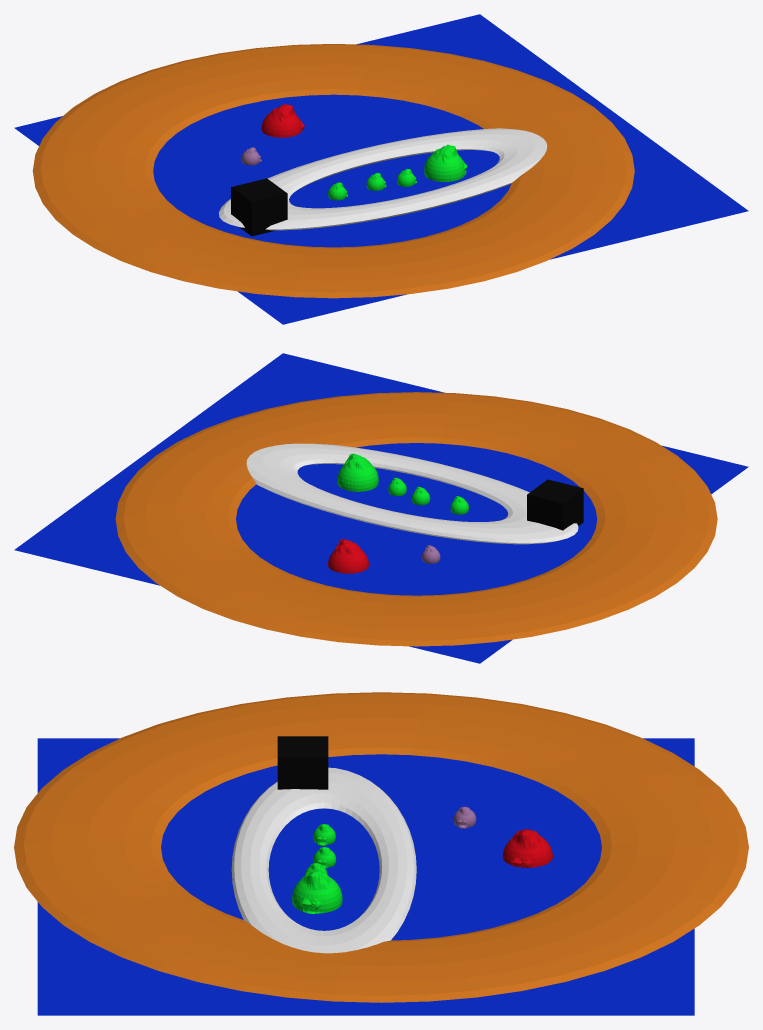
Rendered from child_Duck.fbx.
The picture shows the model from 3 angles, top to bottom: view 1: azimuth 30°, elevation 25°; view 2: azimuth 150°, elevation 25°; view 3: azimuth 270°, elevation 25°; orthographic projection. The views are drawn at different scales.
Visible parts, largest first — view 1: Torus, Plane, Torus.001, Cube, Sphere.001, Sphere; view 2: Torus, Plane, Torus.001, Cube, Sphere.001, Sphere; view 3: Torus, Plane, Torus.001, Cube, Sphere.001, Sphere.
Boxes of the visible parts, left/top/right/bottom form: Torus: left=32, top=44, right=634, bottom=298; Plane: left=14, top=14, right=748, bottom=324; Torus.001: left=219, top=128, right=547, bottom=230; Cube: left=231, top=178, right=287, bottom=236; Sphere.001: left=424, top=144, right=467, bottom=181; Sphere: left=261, top=104, right=304, bottom=137; Torus: left=115, top=392, right=717, bottom=646; Plane: left=14, top=353, right=748, bottom=663; Torus.001: left=246, top=443, right=578, bottom=544; Cube: left=527, top=479, right=583, bottom=530; Sphere.001: left=337, top=453, right=378, bottom=491; Sphere: left=328, top=539, right=368, bottom=573; Torus: left=14, top=692, right=748, bottom=1002; Plane: left=37, top=738, right=694, bottom=1015; Torus.001: left=231, top=767, right=416, bottom=953; Cube: left=277, top=736, right=328, bottom=789; Sphere.001: left=292, top=870, right=342, bottom=913; Sphere: left=502, top=829, right=552, bottom=867.
Size of the model in its own units: 29.85 by 2.97 by 29.09.
